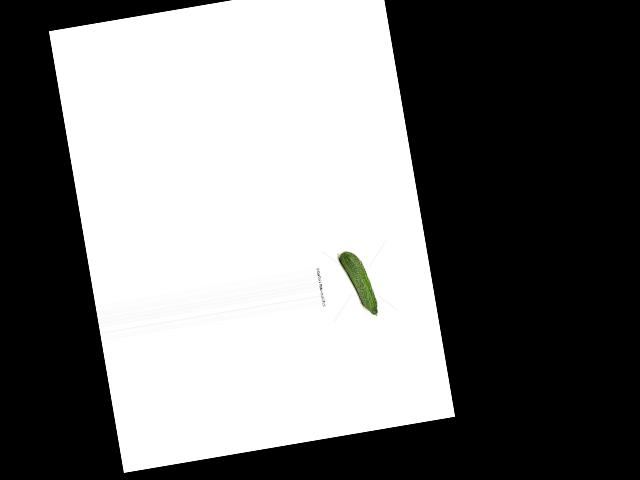cucumber: (338, 248, 378, 320)
